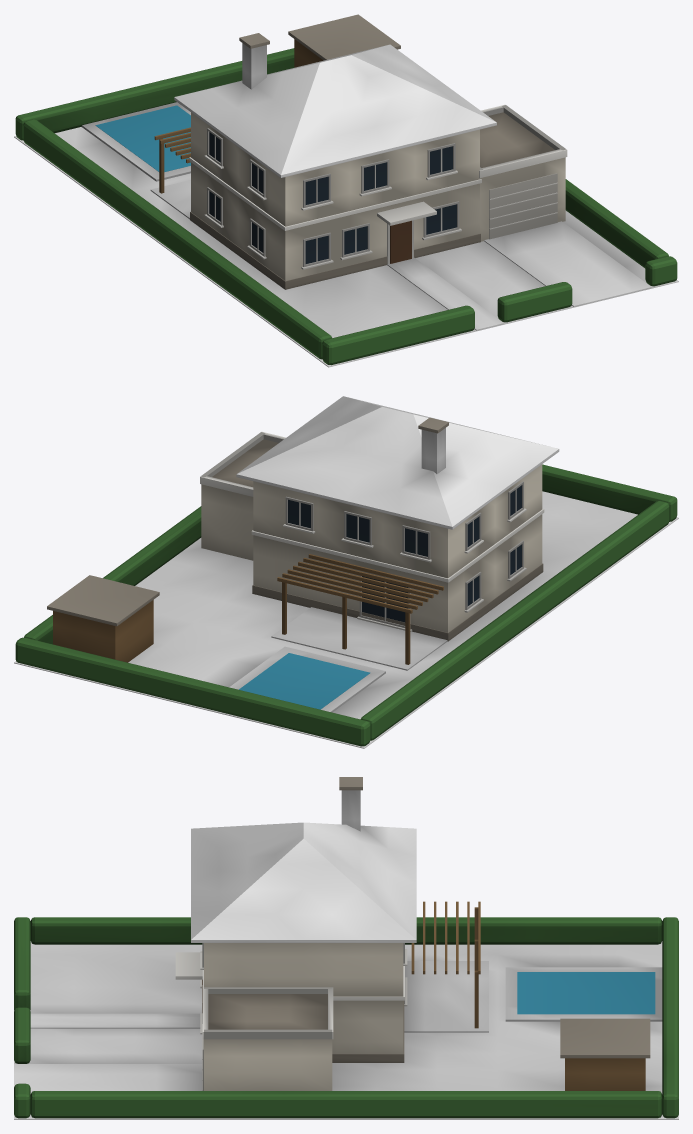
File: clasica-DJCbYGgS.glb
3 views of the same model, one above another, from view 1: azimuth 30°, elevation 25°; view 2: azimuth 150°, elevation 25°; view 3: azimuth 270°, elevation 25° (orthographic). The views are drawn at different scales.
Parts seen in each view (by area): view 1: techo, pieza.009, pasto, pieza.004, pieza.006, pieza.003, pieza, porton, piscina.001, pieza.005, pieza.032, pieza.008 (+17 smaller); view 2: pasto, techo, pieza.009, pieza.003, pieza.004, pieza.020, piscina.001, pieza.031, pieza.011, pieza.032, pieza, pieza.005 (+16 smaller); view 3: pasto, techo, pieza.005, pieza.009, pieza.004, pieza.011, piscina.001, pieza.020, pieza.006, pieza.012, pieza.032, pieza.003 (+11 smaller).
Boxes of the visible parts, x1,y1,x2,y2 form: techo: [174, 44, 496, 177]; pieza.009: [191, 112, 479, 280]; pasto: [14, 127, 678, 367]; pieza.004: [23, 119, 331, 359]; pieza.006: [484, 221, 651, 306]; pieza.003: [15, 48, 294, 140]; pieza: [322, 305, 474, 365]; porton: [489, 173, 557, 239]; piscina.001: [95, 105, 190, 171]; pieza.005: [565, 179, 668, 268]; pieza.032: [288, 14, 400, 60]; pieza.008: [190, 212, 480, 289]; pasto: [14, 491, 678, 748]; techo: [236, 396, 559, 529]; pieza.009: [253, 464, 542, 632]; pieza.003: [15, 637, 370, 746]; pieza.004: [360, 501, 669, 740]; pieza.020: [271, 607, 447, 670]; piscina.001: [239, 653, 370, 709]; pieza.031: [53, 600, 153, 662]; pieza.011: [201, 484, 253, 560]; pieza.032: [47, 575, 159, 626]; pieza: [542, 464, 677, 521]; pieza.005: [24, 506, 201, 644]; pasto: [14, 941, 678, 1119]; techo: [191, 822, 416, 942]; pieza.005: [30, 1091, 662, 1118]; pieza.009: [204, 943, 403, 1053]; pieza.004: [30, 917, 662, 944]; pieza.011: [204, 1039, 332, 1090]; piscina.001: [517, 972, 655, 1014]; pieza.020: [404, 961, 488, 1032]; pieza.006: [14, 1064, 202, 1093]; pieza.012: [208, 994, 327, 1029]; pieza.032: [560, 1018, 650, 1058]; pieza.003: [662, 917, 678, 1118].
Size of the model in its own units: 18 by 9.35 by 28.
